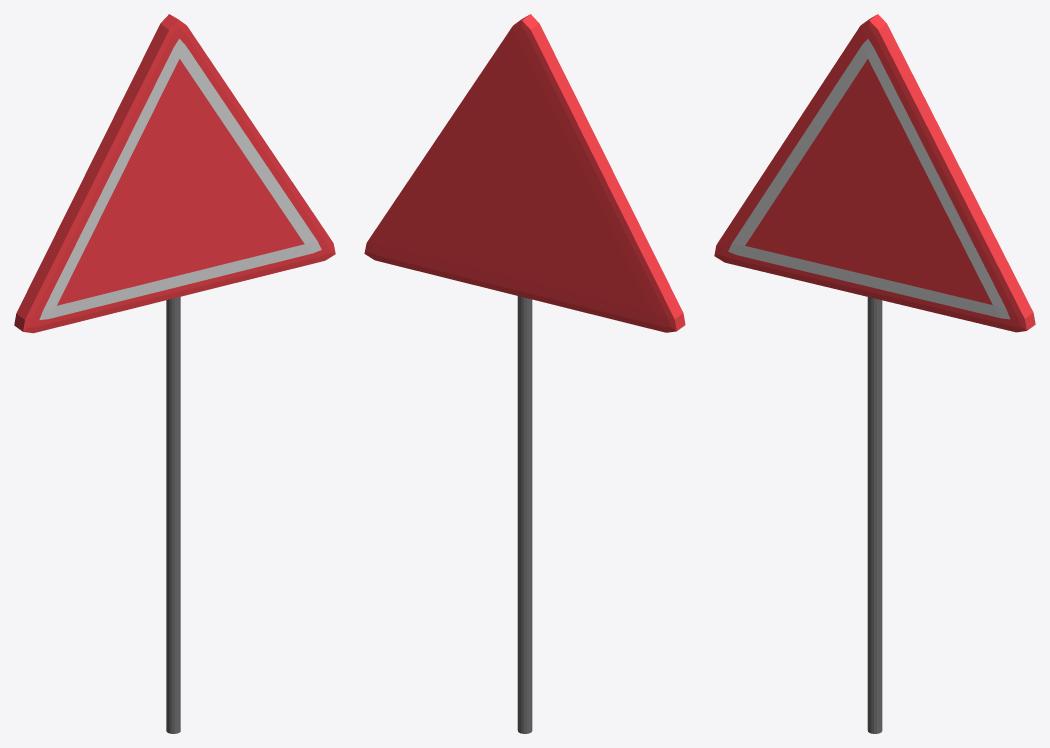
Rendered from signs triangle red white.fbx.
3 views of the same model, side by side, from view 1: azimuth 30°, elevation 25°; view 2: azimuth 150°, elevation 25°; view 3: azimuth 330°, elevation 25° (orthographic).
Visible parts, largest first — view 1: Cube.020; view 2: Cube.020; view 3: Cube.020.
Part boxes in pixels (x1=…): Cube.020: x1=14, y1=14, x2=335, y2=733; Cube.020: x1=364, y1=14, x2=685, y2=733; Cube.020: x1=714, y1=14, x2=1035, y2=733.
Size of the model in its own units: 205 by 12.29 by 448.
